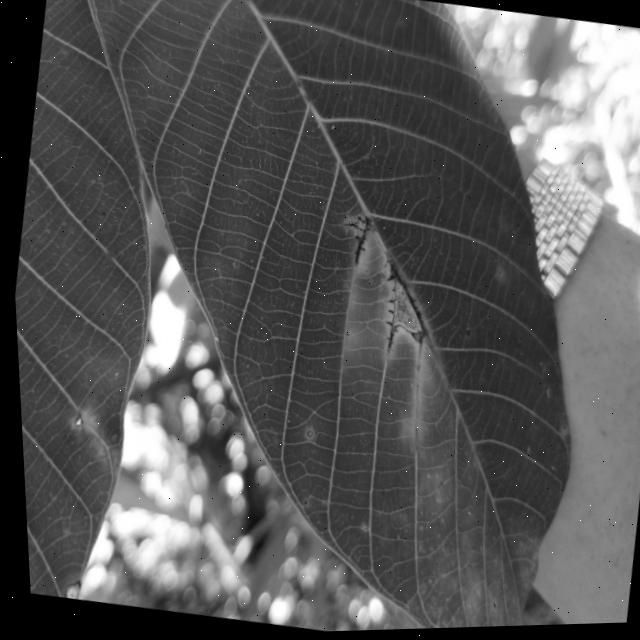Colletotrichum: (301, 431, 309, 438)
Corynespora: (370, 260, 436, 359), (335, 213, 372, 267)
Leaf-Blight: (386, 283, 426, 336)
